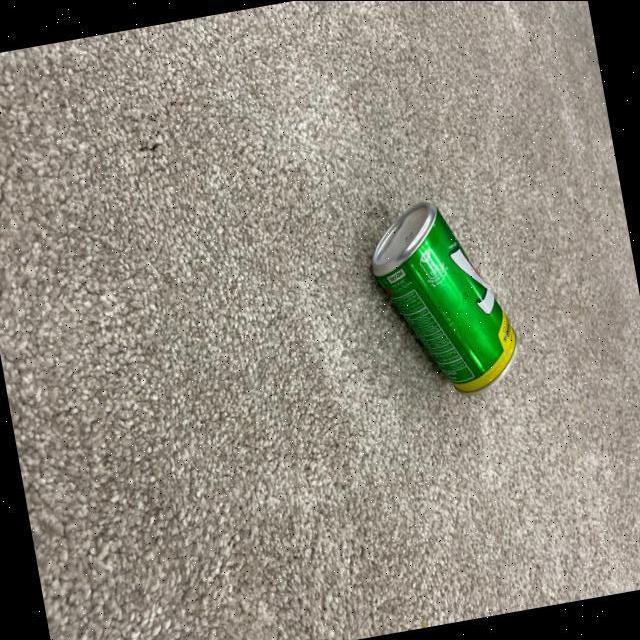can: (356, 186, 528, 410)
